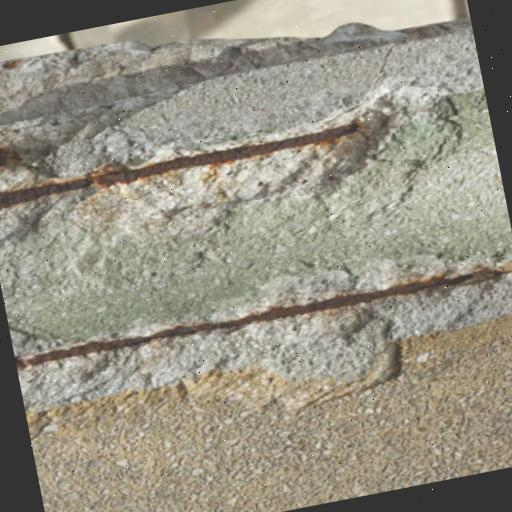spalling: (0, 52, 458, 296), (8, 222, 512, 440)
